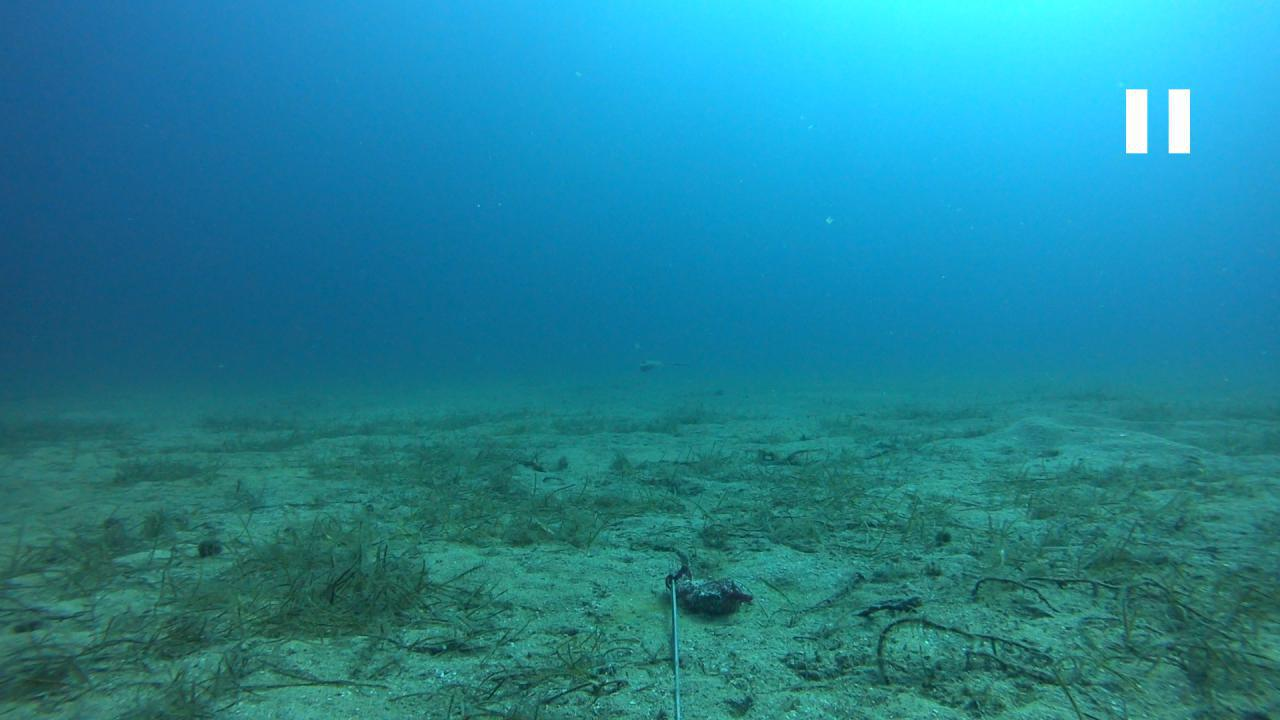dasyatis: (636, 356, 692, 372)
